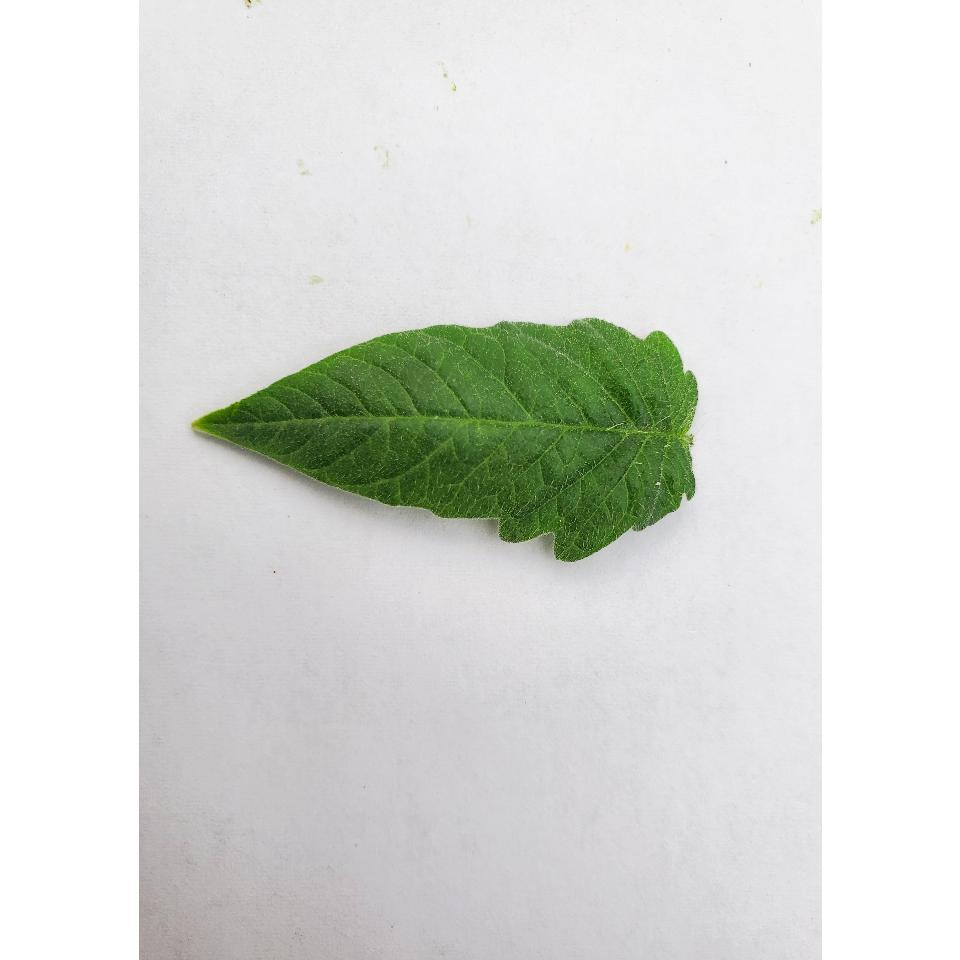tomato_leaves: (198, 318, 698, 556)
